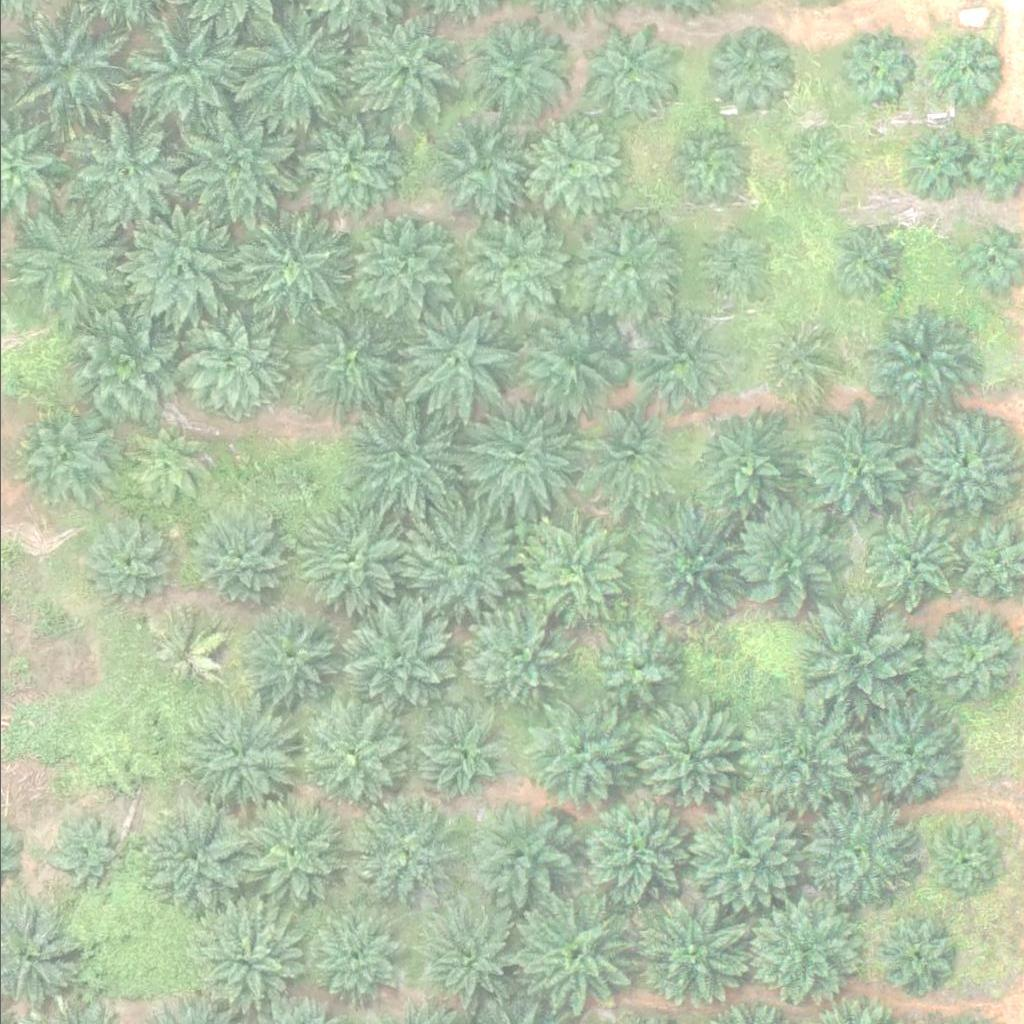Kelapa_Sawit: (856, 295, 982, 420), (390, 297, 516, 422), (795, 402, 921, 527), (725, 497, 851, 622), (792, 594, 918, 719), (733, 697, 859, 822), (568, 791, 694, 916), (626, 892, 752, 1017), (511, 891, 637, 1016), (168, 295, 294, 420), (66, 300, 192, 425), (228, 199, 354, 324), (119, 196, 245, 321), (2, 193, 128, 318), (285, 97, 411, 222), (175, 102, 301, 227), (65, 102, 191, 227), (335, 9, 461, 134), (227, 6, 353, 131), (126, 4, 252, 129), (2, 4, 128, 129), (627, 703, 741, 816), (342, 795, 456, 908), (512, 305, 625, 418), (458, 401, 571, 514), (523, 701, 636, 814), (405, 694, 518, 807), (457, 795, 570, 908), (746, 895, 859, 1008), (183, 905, 296, 1018), (234, 795, 347, 908), (133, 799, 246, 912), (298, 503, 411, 616), (185, 499, 298, 612), (346, 397, 459, 510), (689, 798, 803, 910), (410, 903, 524, 1015), (572, 211, 685, 323), (457, 213, 570, 325), (686, 411, 799, 523), (570, 398, 683, 510), (633, 510, 746, 622), (514, 515, 627, 627), (404, 508, 517, 620), (459, 596, 572, 708), (805, 793, 918, 905), (294, 700, 407, 812), (180, 699, 293, 811), (343, 600, 456, 712), (293, 302, 406, 414), (341, 211, 454, 323), (917, 412, 1018, 512), (77, 510, 178, 610), (117, 415, 218, 515), (579, 23, 679, 123), (464, 25, 564, 125), (518, 116, 618, 216), (430, 115, 530, 215), (861, 511, 961, 611), (855, 701, 955, 801), (300, 903, 400, 1003), (19, 406, 119, 506), (140, 608, 229, 696), (705, 28, 793, 116), (662, 123, 750, 211), (592, 625, 680, 713), (240, 615, 328, 703), (639, 320, 727, 407), (926, 611, 1014, 698), (921, 822, 997, 897), (759, 326, 834, 401), (878, 919, 953, 994), (926, 34, 1001, 109), (834, 34, 909, 109), (890, 122, 965, 197), (823, 223, 898, 298), (693, 229, 768, 304), (45, 815, 120, 890), (783, 128, 846, 190)
